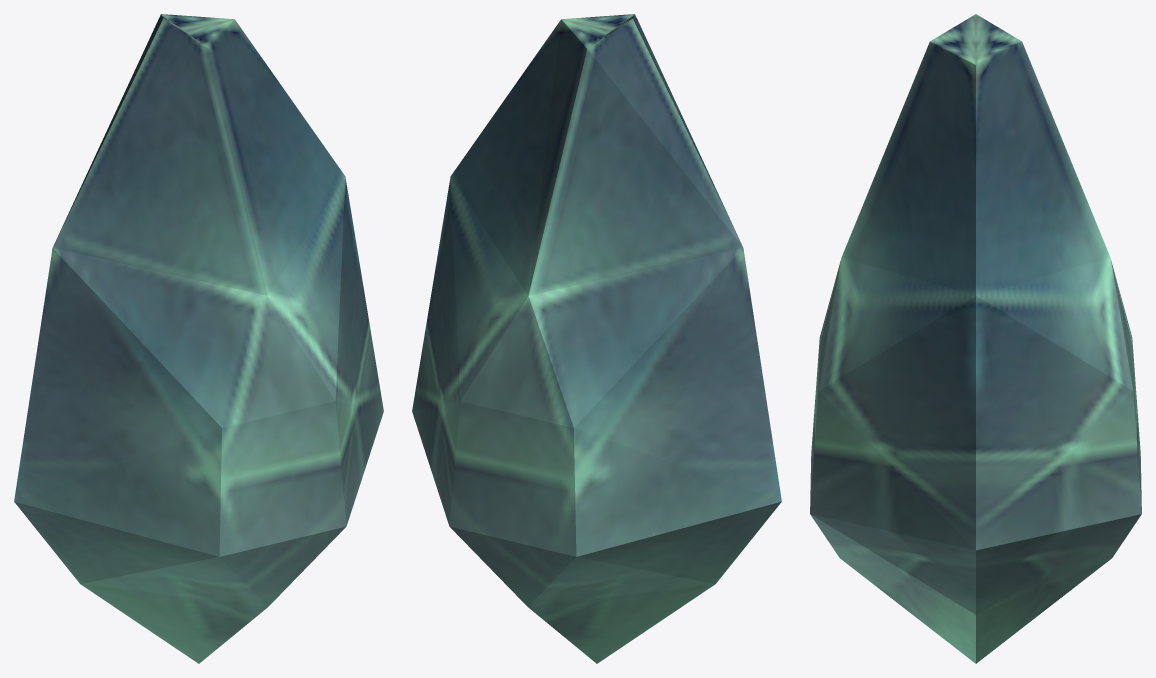
The model's file is TX_FB4_Moxing_4_shuijing.FBX.
3 renders of one model, left to right at view 1: azimuth 30°, elevation 25°; view 2: azimuth 150°, elevation 25°; view 3: azimuth 270°, elevation 25°, orthographic. The views are drawn at different scales.
Parts seen in each view (by area): view 1: TX_FB4_Moxing_4_shuijing; view 2: TX_FB4_Moxing_4_shuijing; view 3: TX_FB4_Moxing_4_shuijing.
Part boxes in pixels (bbox=[...]): TX_FB4_Moxing_4_shuijing: bbox=[14, 14, 383, 663]; TX_FB4_Moxing_4_shuijing: bbox=[412, 14, 781, 663]; TX_FB4_Moxing_4_shuijing: bbox=[810, 14, 1141, 663].
Size of the model in its own units: 148 by 250 by 119.
